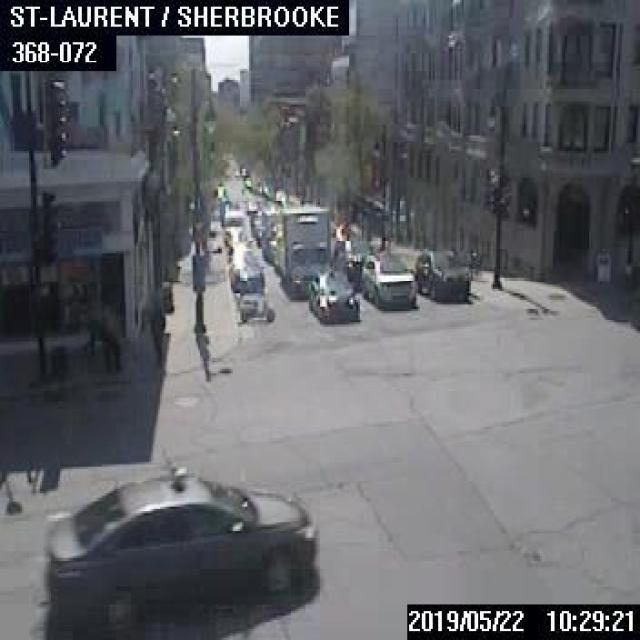pedestrian: (101, 310, 122, 370)
vehicle: (42, 472, 318, 633), (275, 206, 329, 296), (359, 250, 414, 307), (414, 245, 468, 301), (307, 266, 358, 322), (334, 239, 374, 278), (236, 286, 272, 322), (228, 256, 264, 292), (260, 209, 278, 261)
